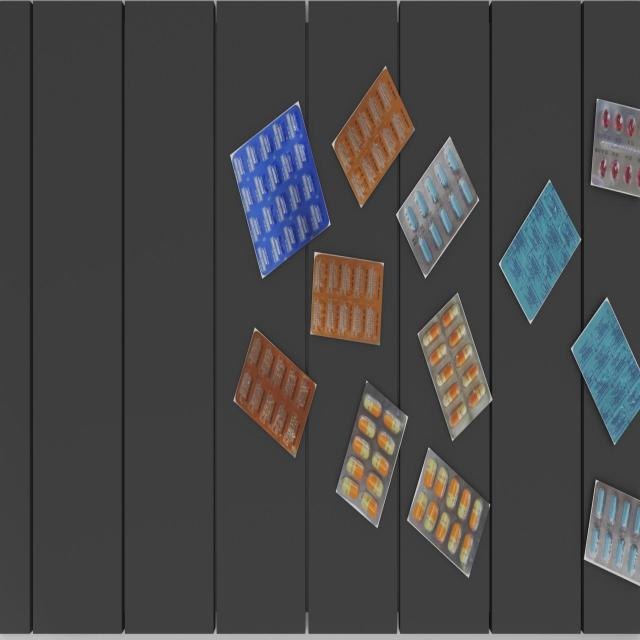blister: (228, 98, 333, 281), (328, 54, 415, 207), (500, 179, 585, 329), (396, 129, 479, 277), (416, 293, 491, 442), (405, 444, 490, 574), (233, 327, 317, 458), (335, 378, 407, 527), (572, 297, 639, 449), (306, 248, 388, 351), (584, 475, 640, 588), (588, 95, 640, 195)
